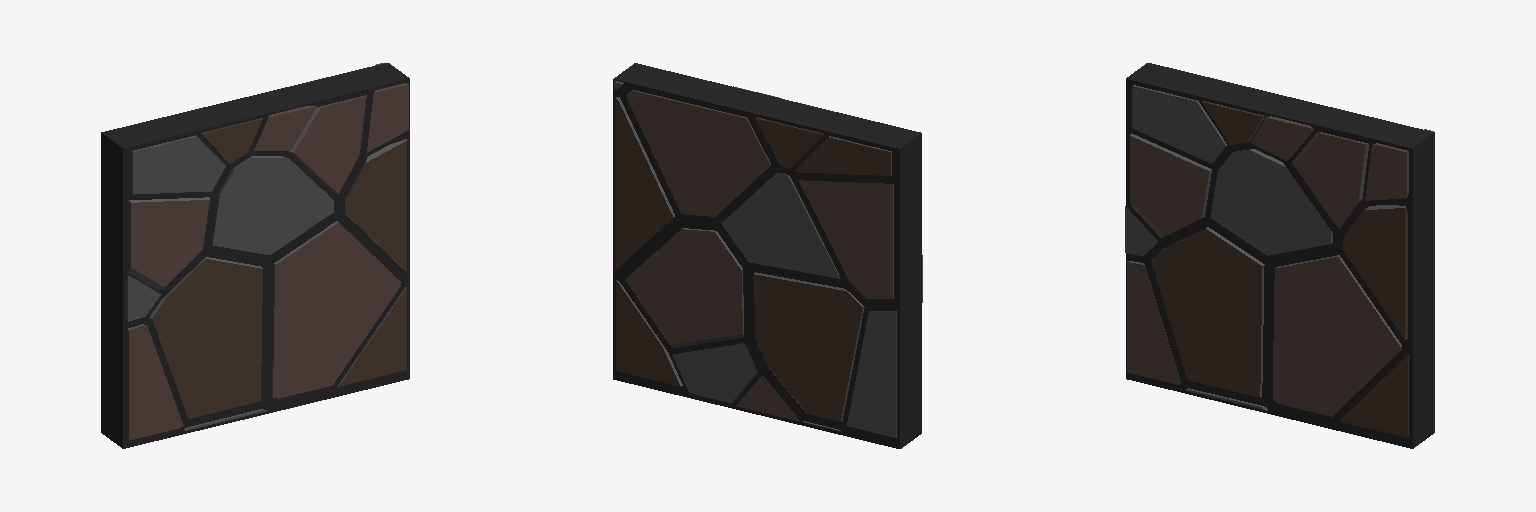
Rendered from stone_wall1.obj.
3 renders of one model, left to right at view 1: azimuth 30°, elevation 25°; view 2: azimuth 150°, elevation 25°; view 3: azimuth 330°, elevation 25°, orthographic.
Visible parts, largest first — view 1: Cube.008_cell.014_Mesh.170; view 2: Cube.008_cell.014_Mesh.170; view 3: Cube.008_cell.014_Mesh.170.
Part boxes in pixels (x1,y1,x2,y2): Cube.008_cell.014_Mesh.170: (101,63,409,448); Cube.008_cell.014_Mesh.170: (613,63,922,448); Cube.008_cell.014_Mesh.170: (1125,63,1434,448).
Size of the model in its own units: 3 by 3 by 0.4845.